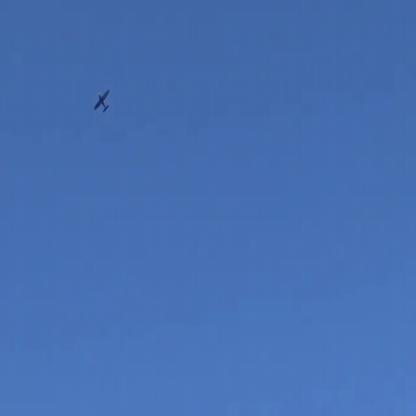CIV_Plane: (93, 90, 110, 112)
